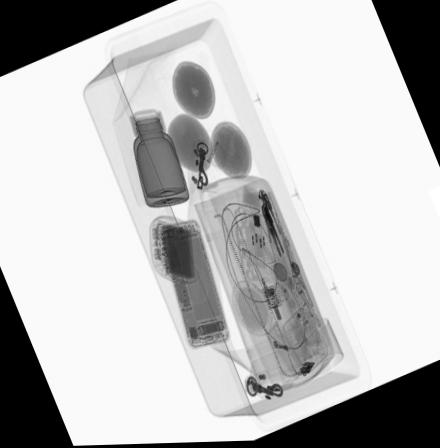Powerbank: (147, 213, 202, 285)
